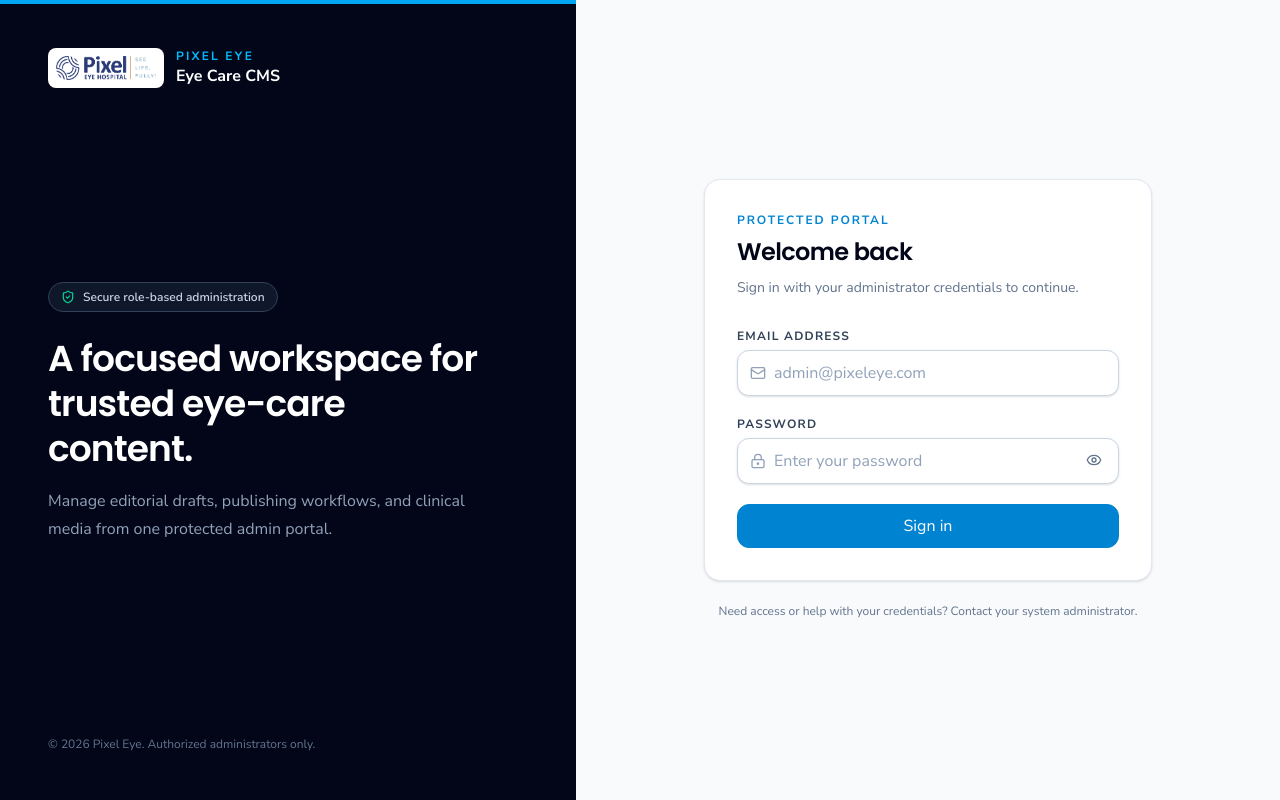
Test: LoginPage › shows a locked-account message
This screenshot has width=1280, height=800.
Type "admin@example.com" into the field labelled "Email address" at (942, 373), box [766,351,1118,395]
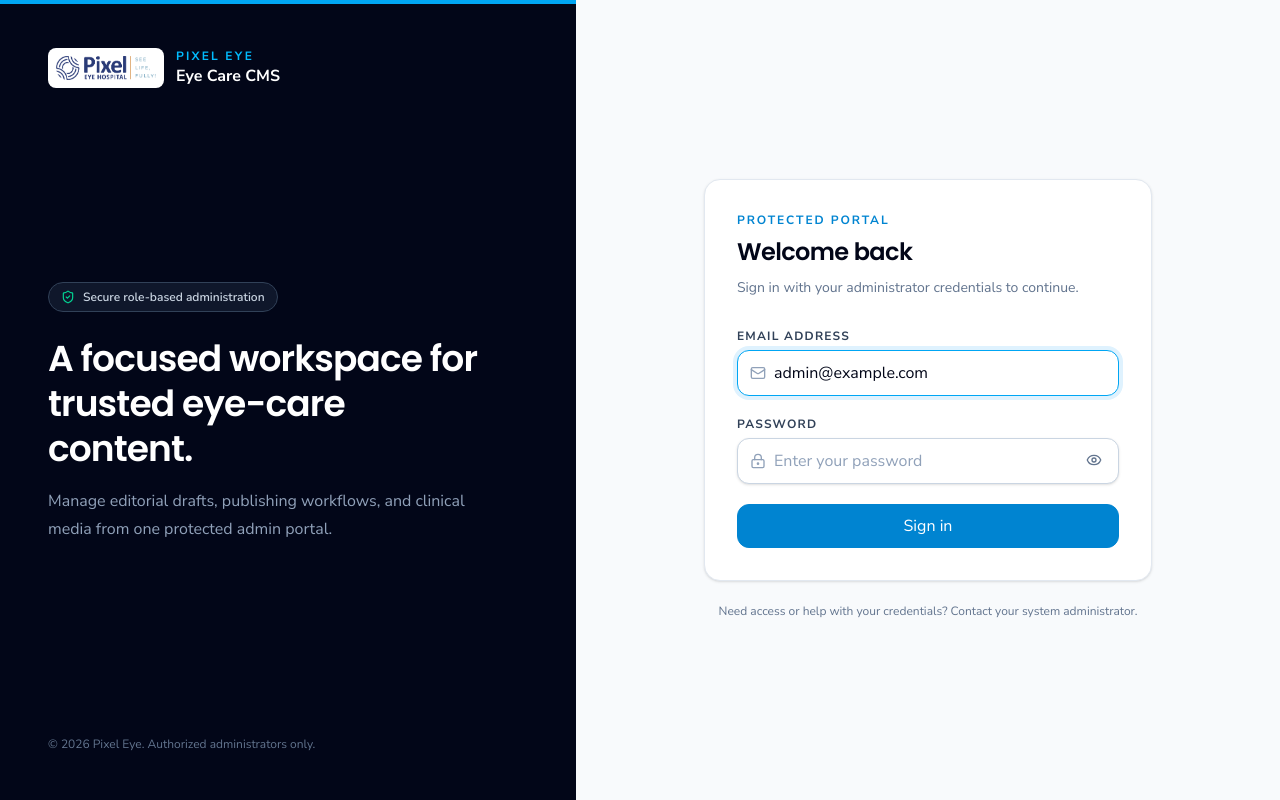
Type "CorrectPass123" into the password field labelled "Password" at (924, 461), box [766,439,1082,483]
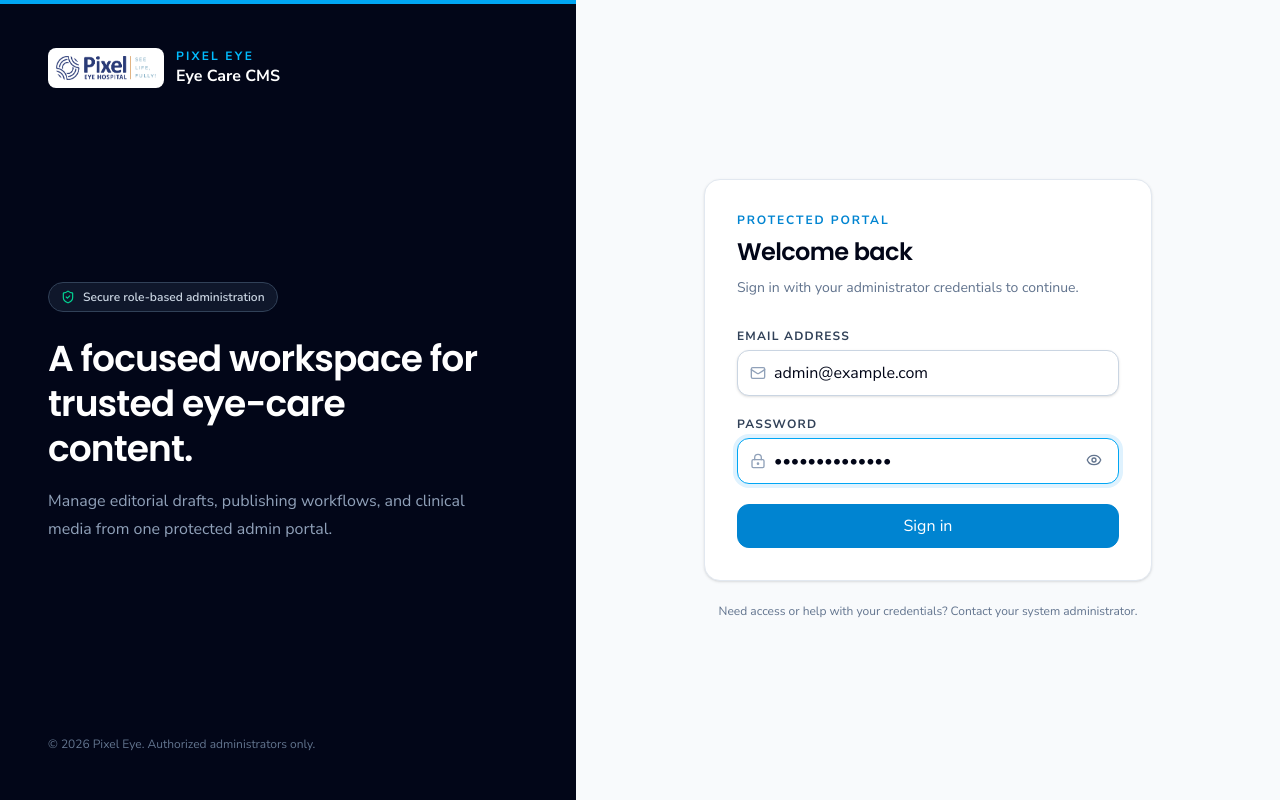
Click the button "Sign in" at (928, 526), box [737,504,1119,548]
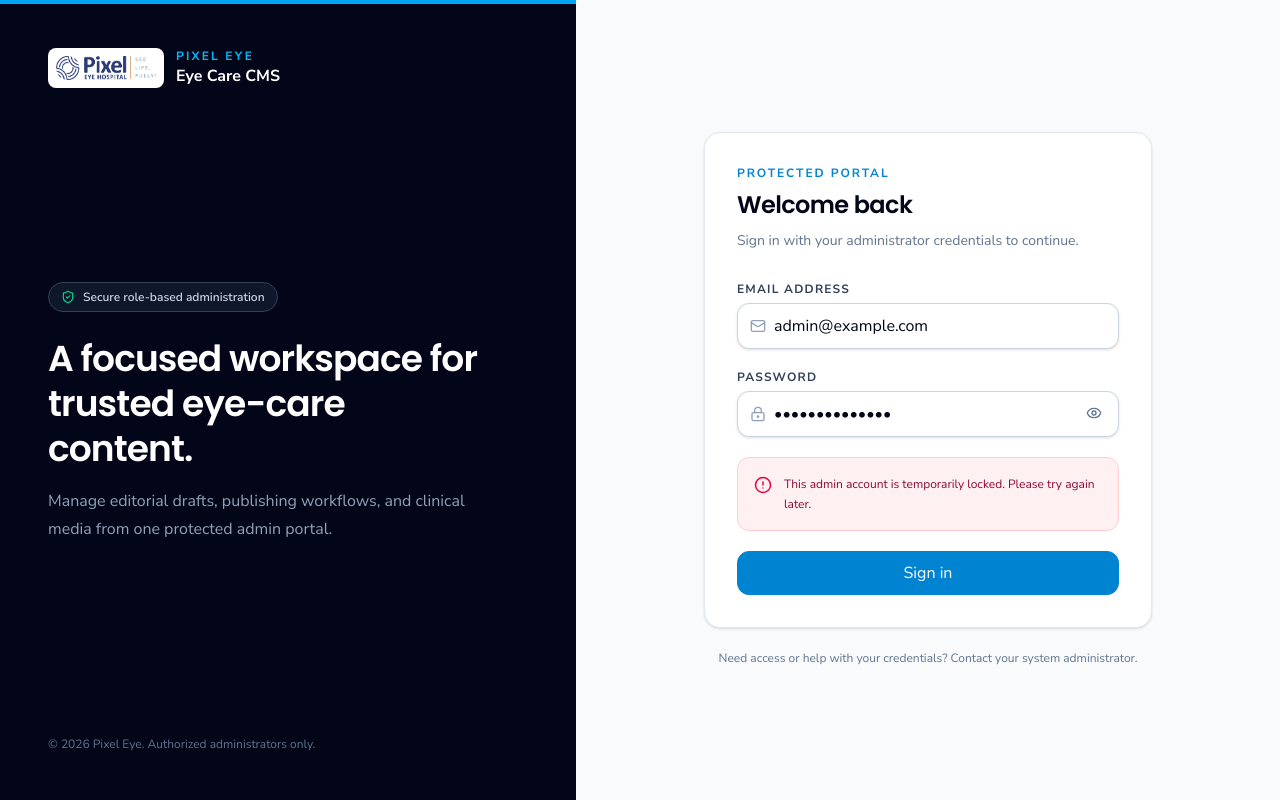
Expected: the message shows "temporarily locked", [784,476,1094,512]
